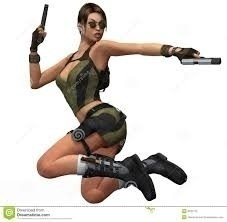pistol: (177, 43, 227, 70), (37, 5, 52, 41)
